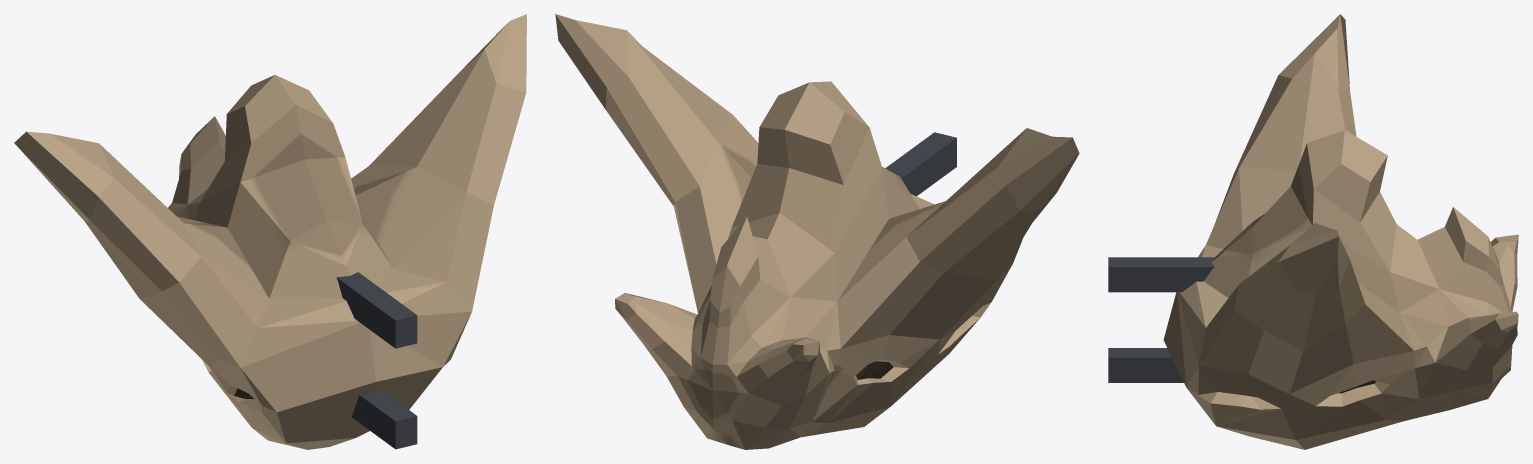
File: SM_Veh_Ship_S_Rudder_03.fbx
3 renders of one model, left to right at view 1: azimuth 30°, elevation 25°; view 2: azimuth 150°, elevation 25°; view 3: azimuth 270°, elevation 25°, orthographic. The views are drawn at different scales.
Parts seen in each view (by area): view 1: SM_Veh_Ship_S_Rudder_03_Flap, SM_Veh_Ship_S_Rudder_03; view 2: SM_Veh_Ship_S_Rudder_03_Flap, SM_Veh_Ship_S_Rudder_03; view 3: SM_Veh_Ship_S_Rudder_03_Flap, SM_Veh_Ship_S_Rudder_03.
Boxes of the visible parts, x1=… form: SM_Veh_Ship_S_Rudder_03_Flap: x1=14, y1=14, x2=526, y2=449; SM_Veh_Ship_S_Rudder_03: x1=336, y1=272, x2=417, y2=449; SM_Veh_Ship_S_Rudder_03_Flap: x1=555, y1=14, x2=1079, y2=449; SM_Veh_Ship_S_Rudder_03: x1=885, y1=132, x2=956, y2=196; SM_Veh_Ship_S_Rudder_03_Flap: x1=1163, y1=14, x2=1518, y2=449; SM_Veh_Ship_S_Rudder_03: x1=1108, y1=257, x2=1214, y2=382.
Size of the model in its own units: 260 by 170 by 202.
